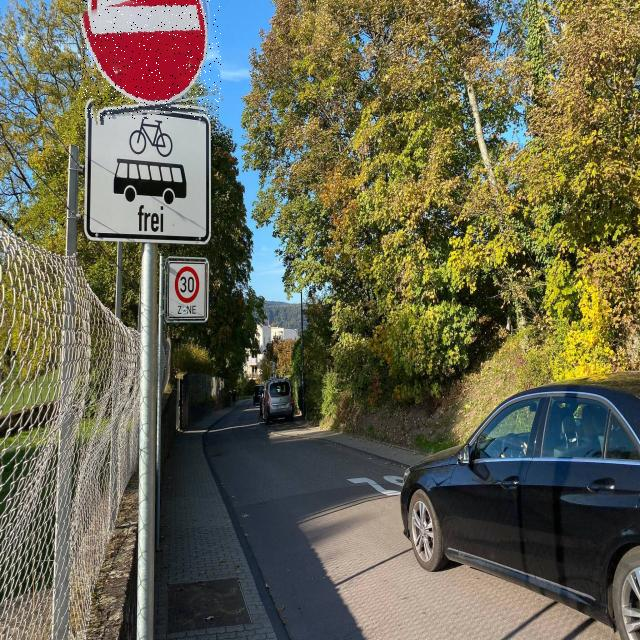no entry: (79, 0, 221, 119)
